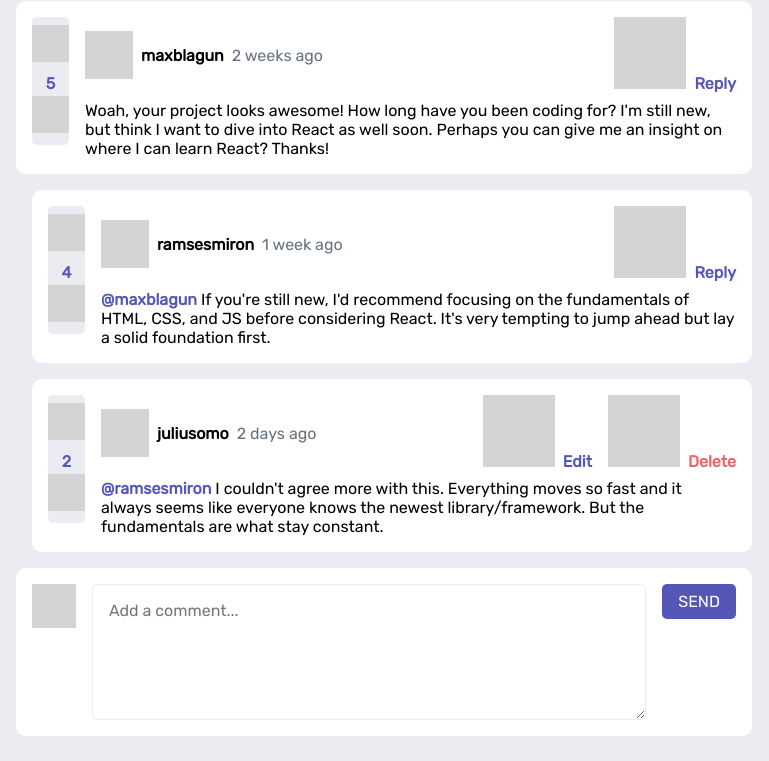
Test: App Integration Tests › Creating Comments › should add a new top-level comment
(page scrolled)
In the text box with placeholder "Add a comment...": (369, 652) [92,584,646,720], type "Brand new comment"
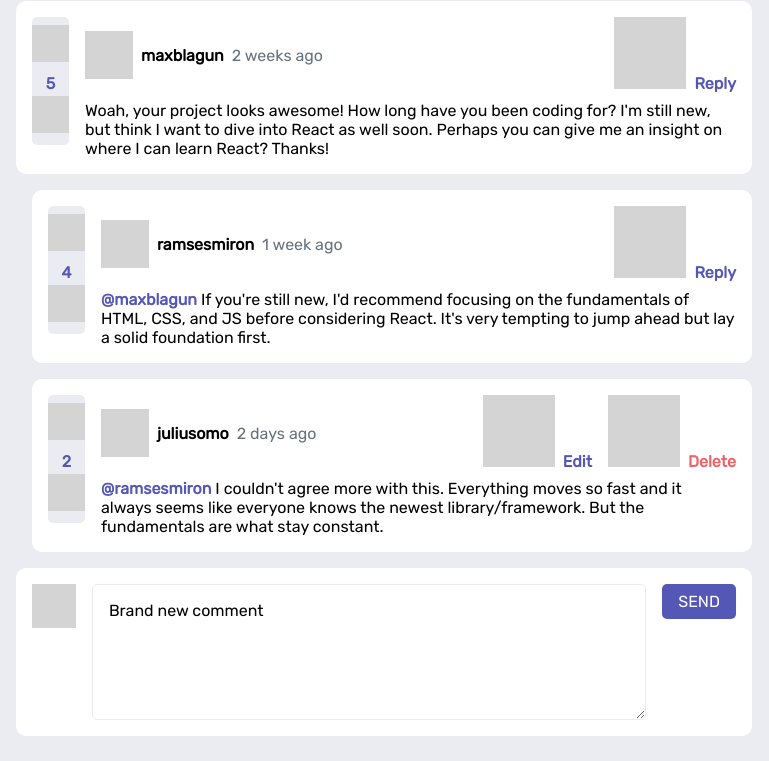
Click the button "send": (699, 602) [662,584,736,619]
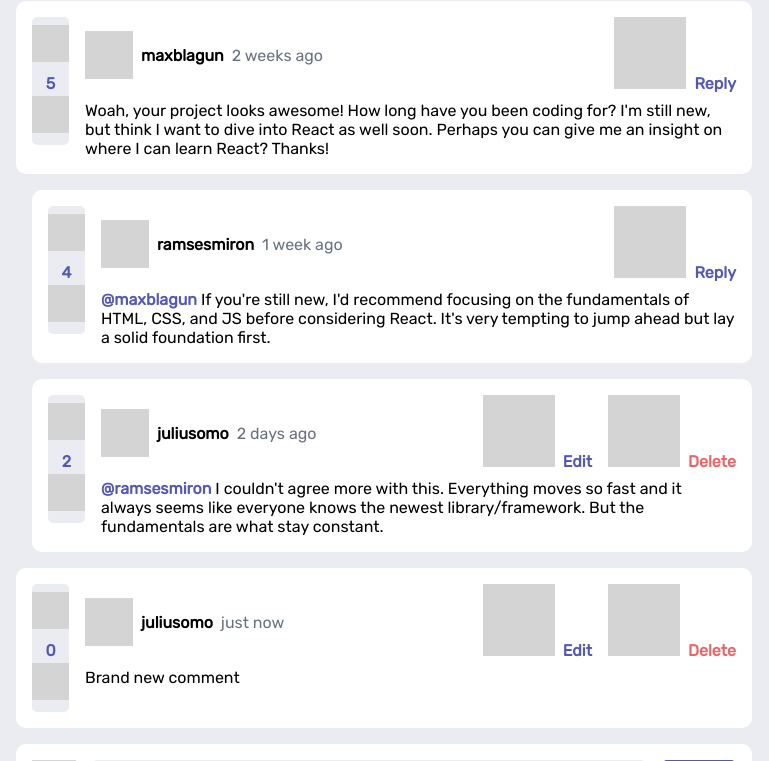
Result: the text "Brand new comment" is shown at [85,668,240,687]
